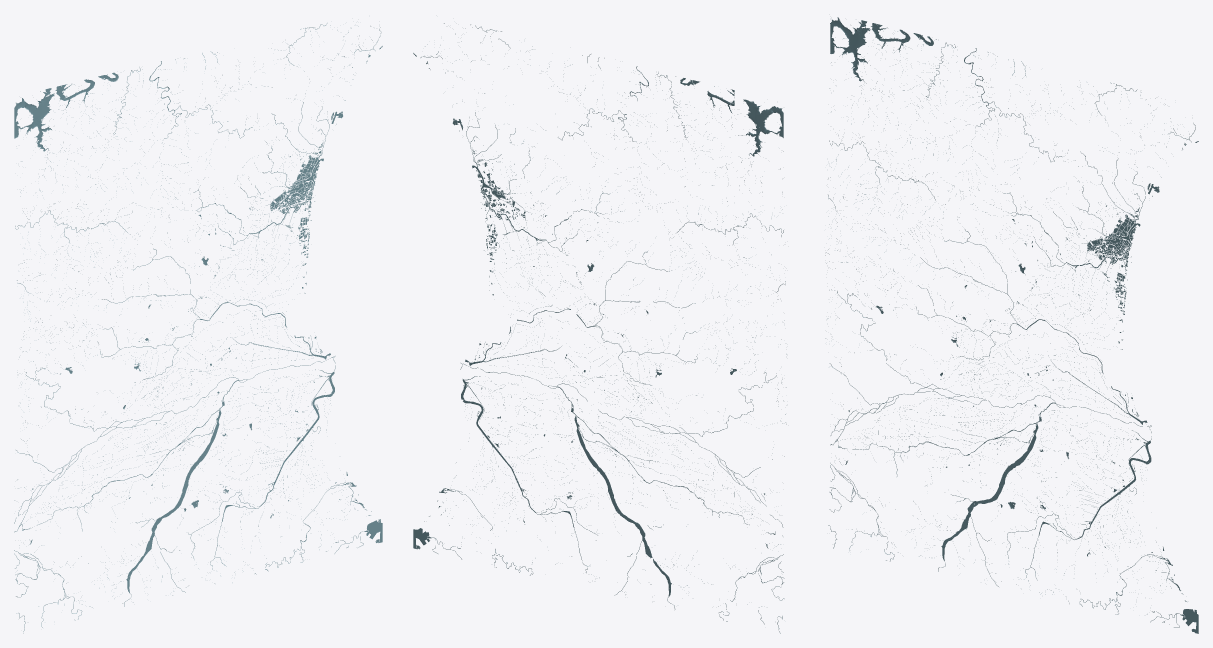
The model's file is context-water.glb.
3 views of the same model, side by side, from view 1: azimuth 30°, elevation 25°; view 2: azimuth 150°, elevation 25°; view 3: azimuth 330°, elevation 25° (orthographic).
Parts seen in each view (by area): view 1: water-far--1-4; view 2: no part large enough to name; view 3: water-far--1-4.
Boxes of the visible parts, <box> form: water-far--1-4: <box>278,173,305,207</box>; water-far--1-4: <box>1095,226,1122,257</box>.
Size of the model in its own units: 27296 by 37848 by 1348.
